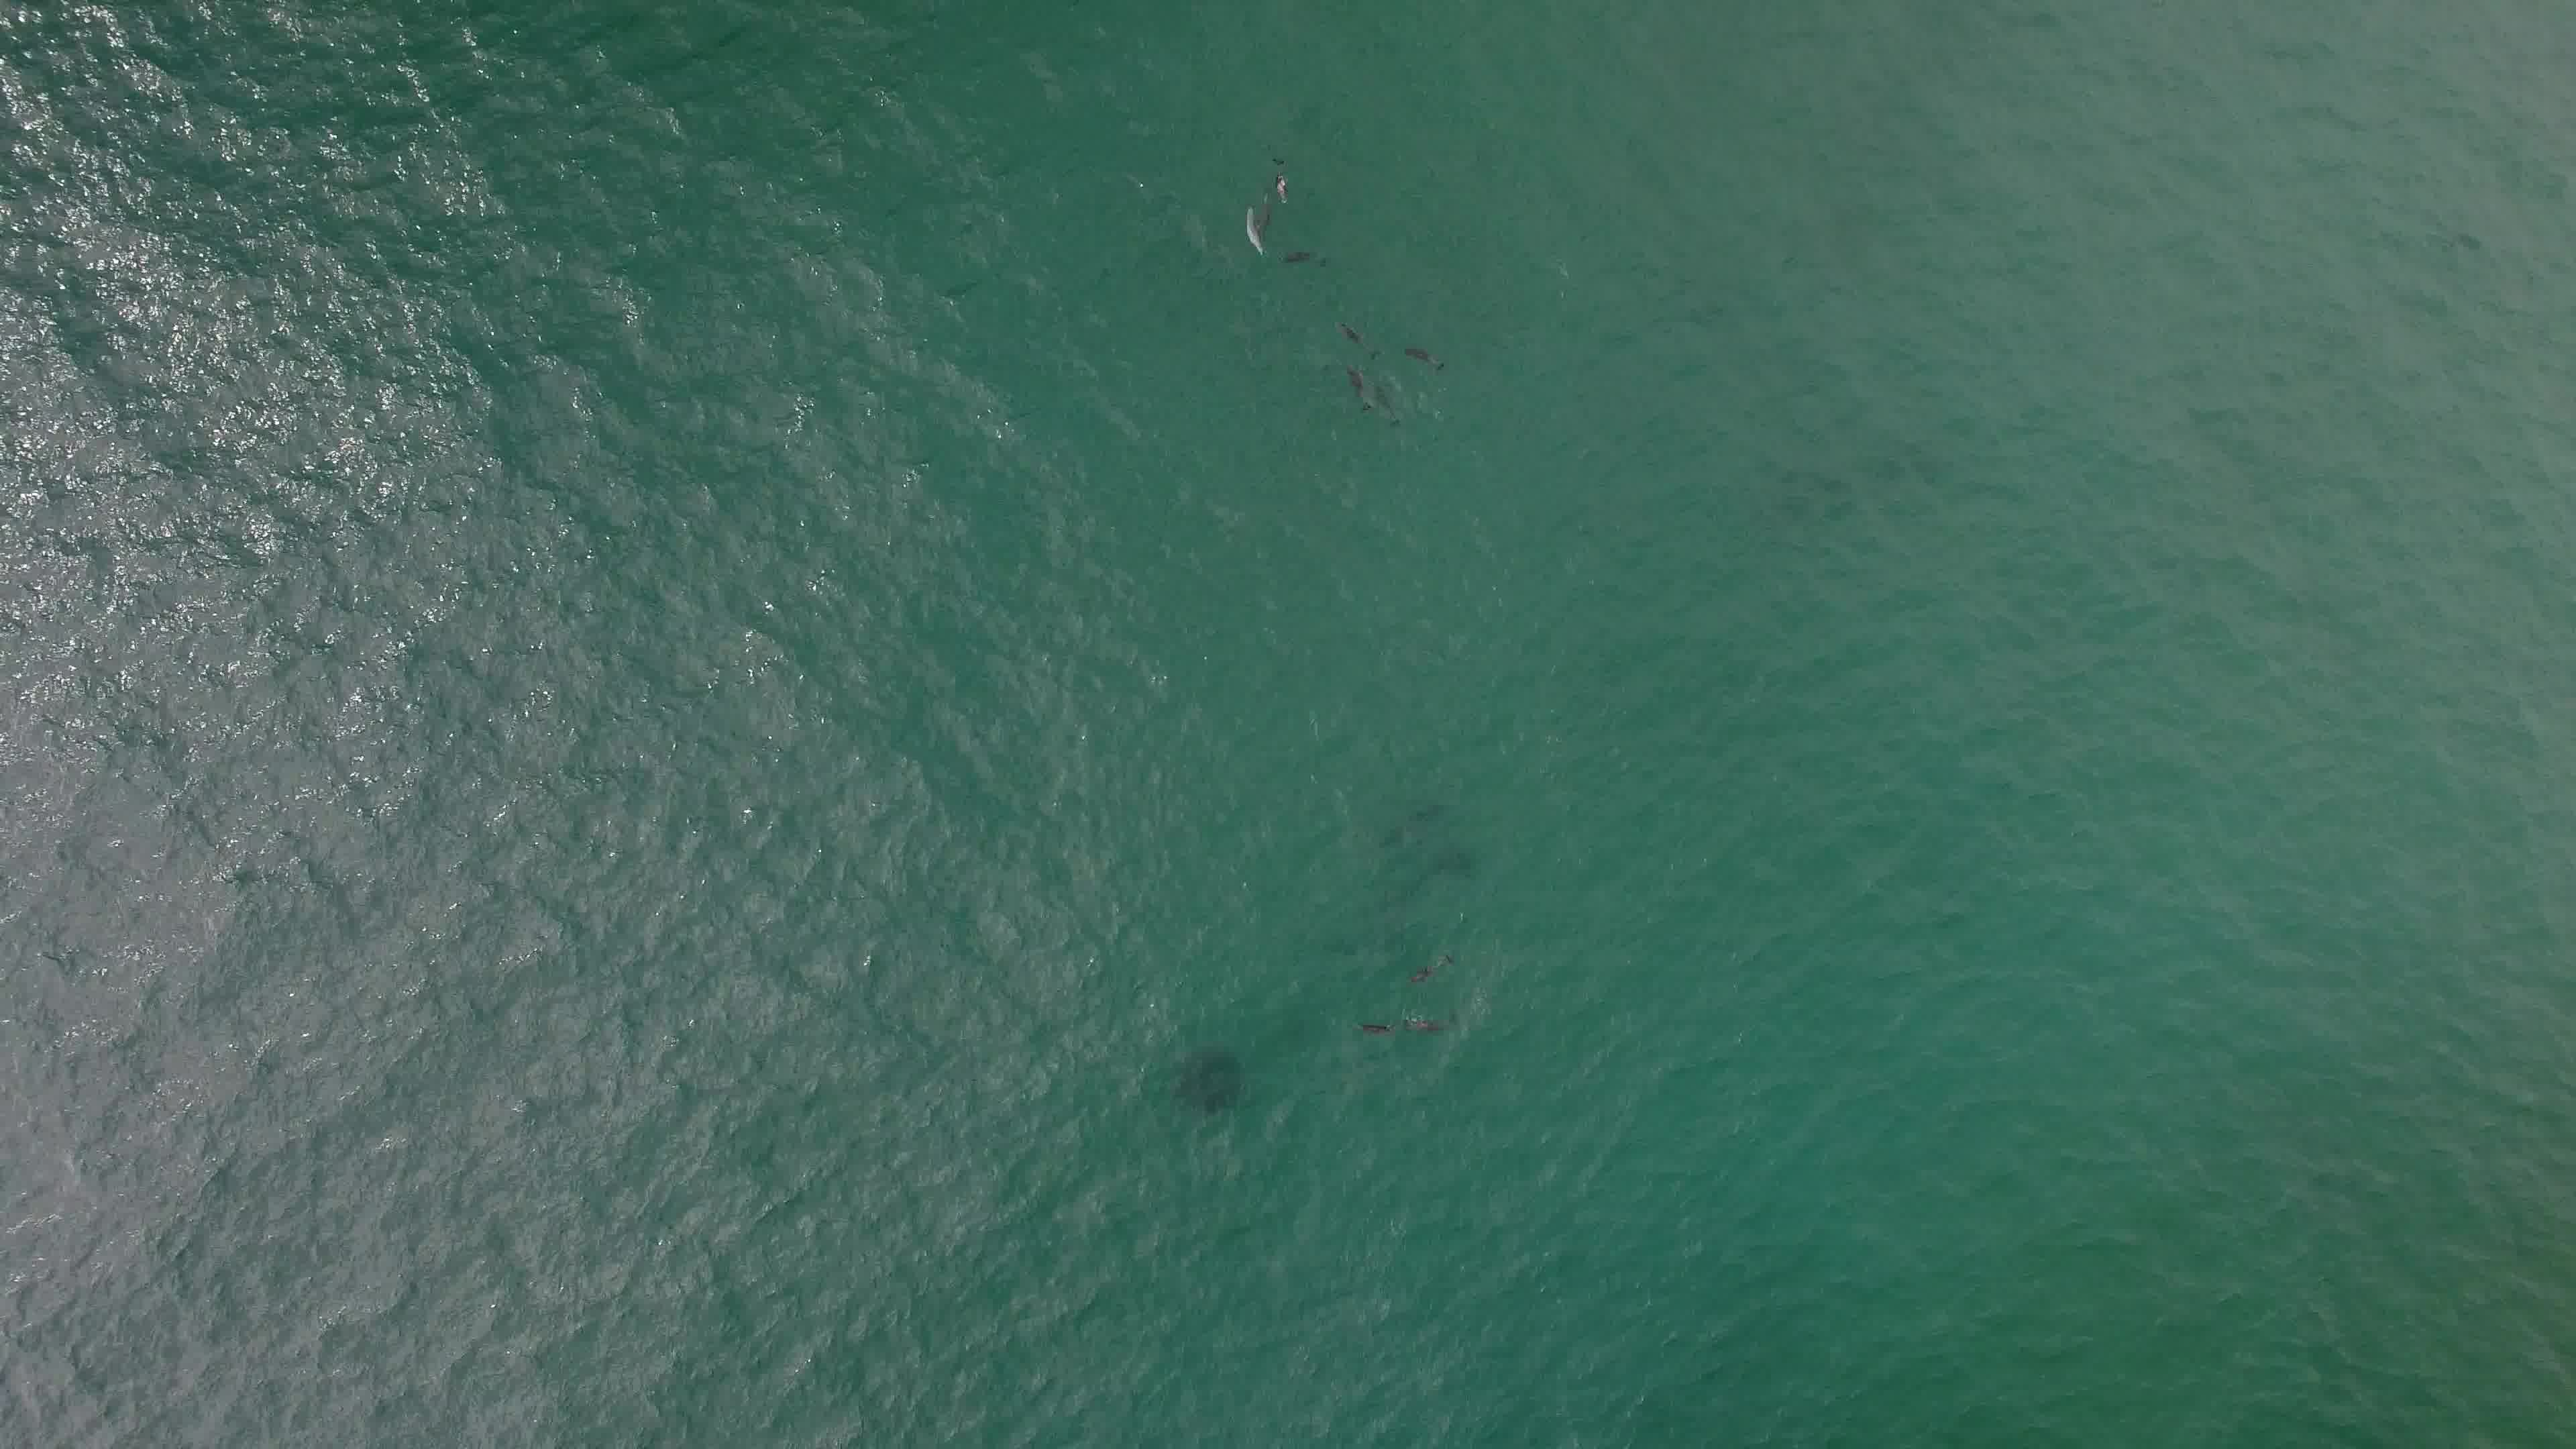dolphin: (1323, 349, 1401, 426), (1224, 182, 1283, 267), (1323, 311, 1396, 366), (1394, 936, 1461, 991), (1387, 331, 1453, 380), (1399, 1003, 1465, 1046), (1338, 1008, 1408, 1044), (1263, 152, 1302, 212), (1274, 244, 1330, 276)
